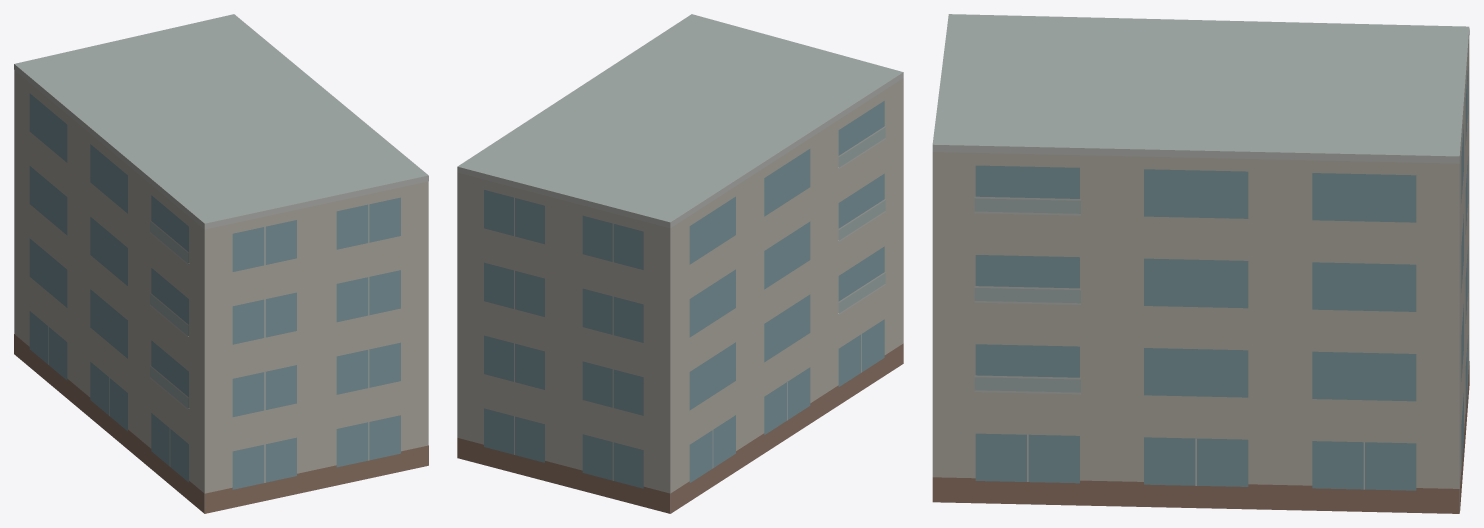
The model's file is survey-upis-32984393.glb.
The picture shows the model from 3 angles, left to right: view 1: azimuth 30°, elevation 25°; view 2: azimuth 150°, elevation 25°; view 3: azimuth 270°, elevation 25°; orthographic projection. The views are drawn at different scales.
Visible parts, largest first — view 1: survey-upis-32984393.tmp; view 2: survey-upis-32984393.tmp; view 3: survey-upis-32984393.tmp.
Boxes of the visible parts, box(x1,y1,x2,y2) form: survey-upis-32984393.tmp: box(14, 14, 428, 513); survey-upis-32984393.tmp: box(457, 14, 903, 513); survey-upis-32984393.tmp: box(932, 14, 1469, 513).
Size of the model in its own units: 10.43 by 12.2 by 16.62.
